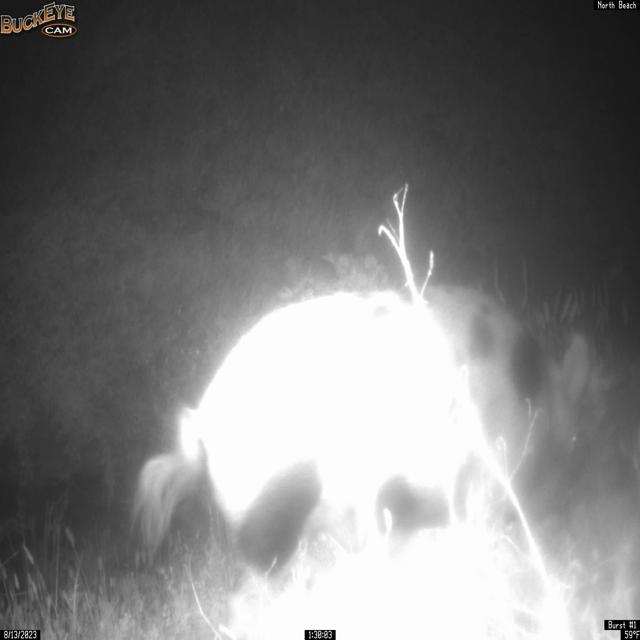pig: (128, 282, 592, 591)
